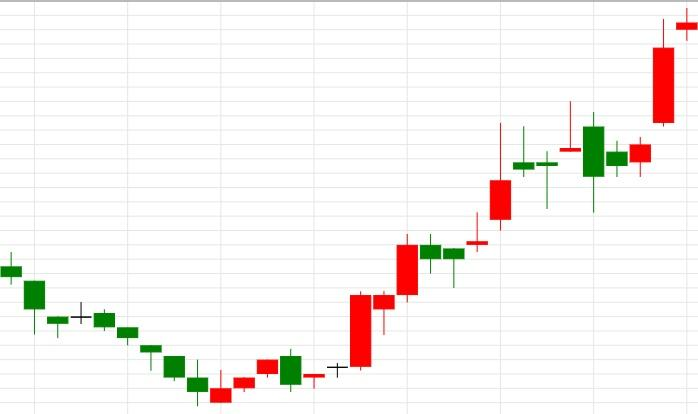shooting_star_fall: (350, 124, 511, 370)
